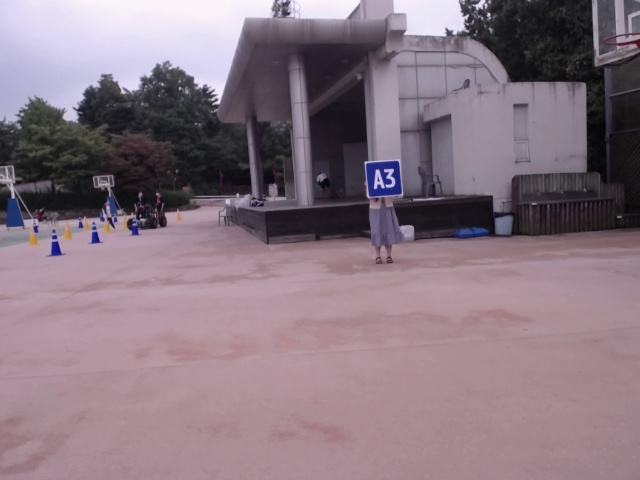delivery_a3: (365, 160, 403, 197)
